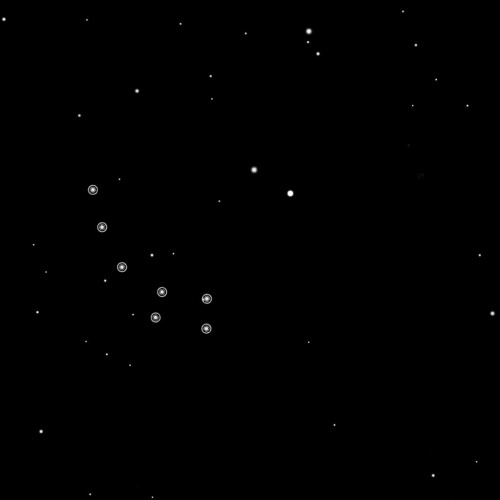ursa_minor: (83, 180, 220, 343)
